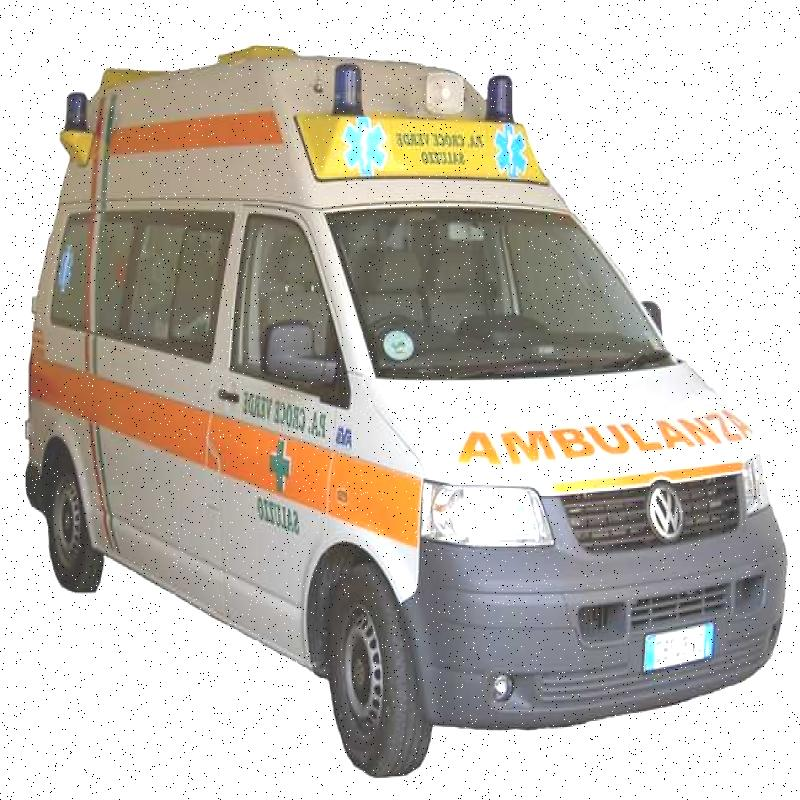AmbulanceSiren: (283, 54, 539, 150)
